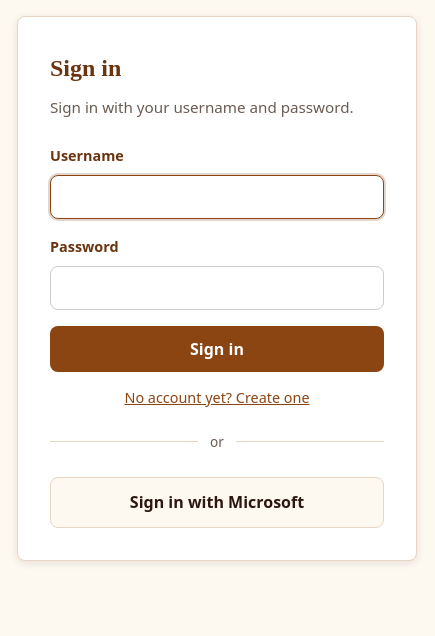
Scenario: LoginPage — sign in › shows an inline error for bad credentials without redirecting
The width and height of the screenshot is (435, 636).
Type "alice" into the field labelled "Username" at (217, 197), box [50,175,384,219]
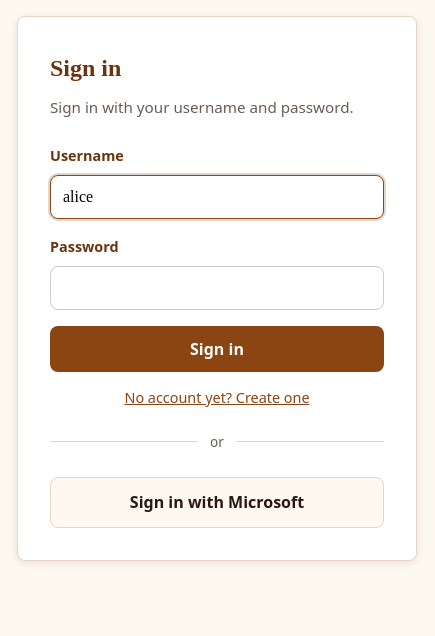
Type "wrong-password" into the password field labelled "Password" at (217, 288), box [50,266,384,310]
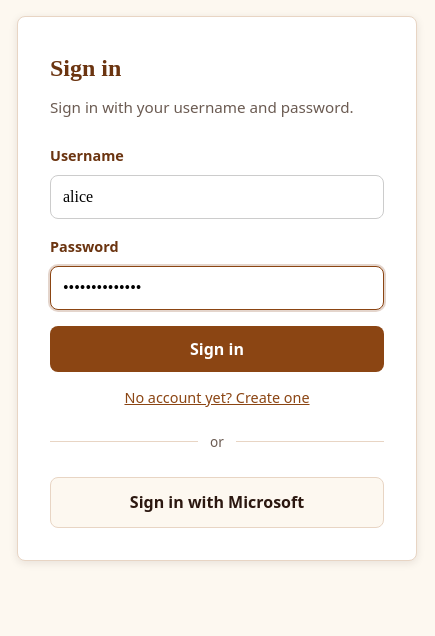
Click the button "Sign in" at (217, 349), box [50,326,384,372]
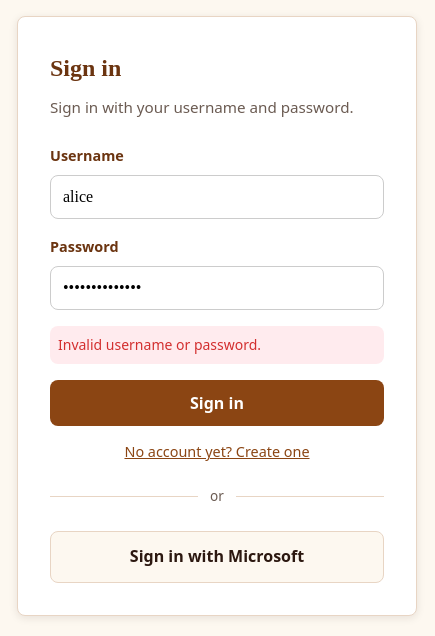
Check: the message shows "Invalid username or password", box [58,335,261,354]
